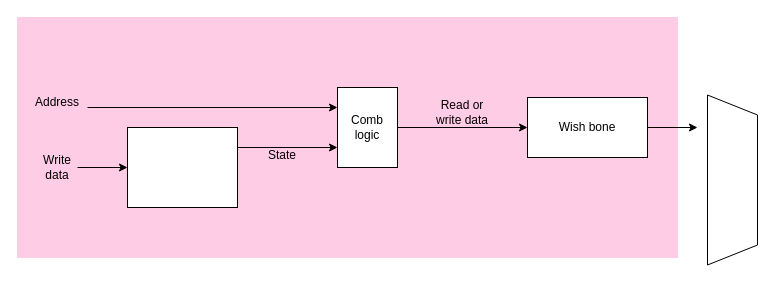
This 775x283 diagram has some shape labels left out. Here are the shapes that lost their labels. From the top down, the centre of each, then its label:
the point at 182,167: FSM
the point at 732,179: 1 MUX 0
